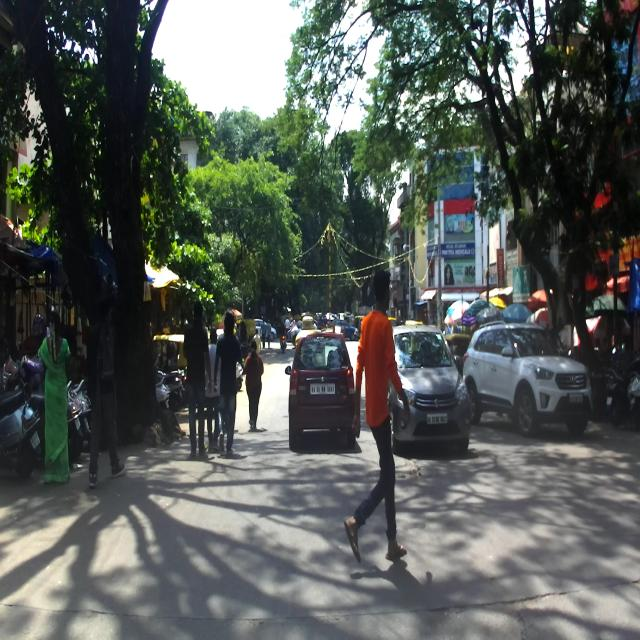car ahead at: (468, 317, 593, 431), (392, 317, 472, 456), (292, 325, 356, 444)
person ahead at: (348, 266, 411, 572), (38, 297, 80, 486)
